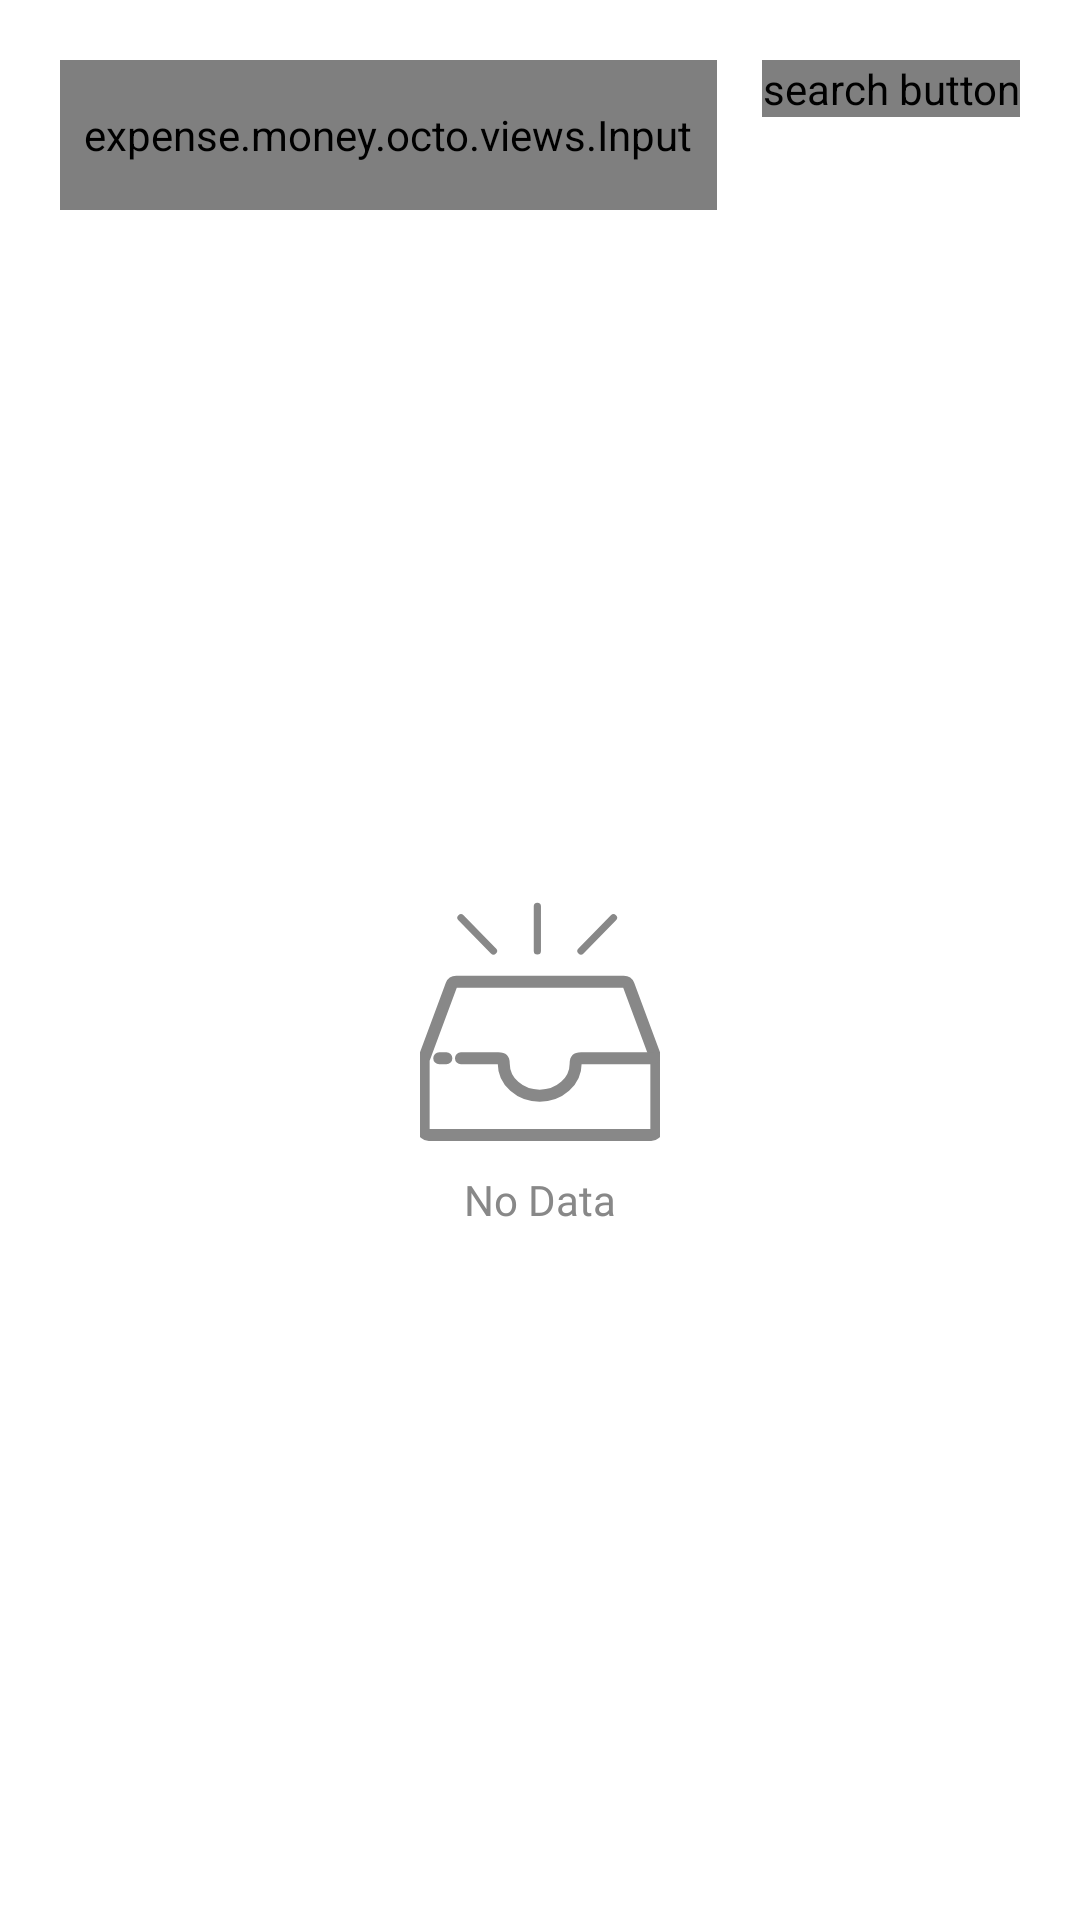

Locate icon controls on the screen. Image size 1080 × 1920, boxes as region(x1, y1, x2, y2).
emptyinbox: region(420, 902, 660, 1141)
